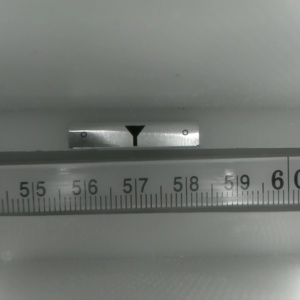0: (293, 168, 300, 189)
5: (18, 182, 29, 198), (172, 176, 182, 192), (71, 180, 81, 196), (35, 181, 45, 197), (122, 179, 132, 194)
6: (271, 169, 283, 190), (87, 179, 97, 195), (223, 175, 233, 190)
7: (137, 178, 147, 193)
8: (188, 176, 198, 192)
9: (239, 175, 249, 190)
finger: (122, 125, 145, 146)
